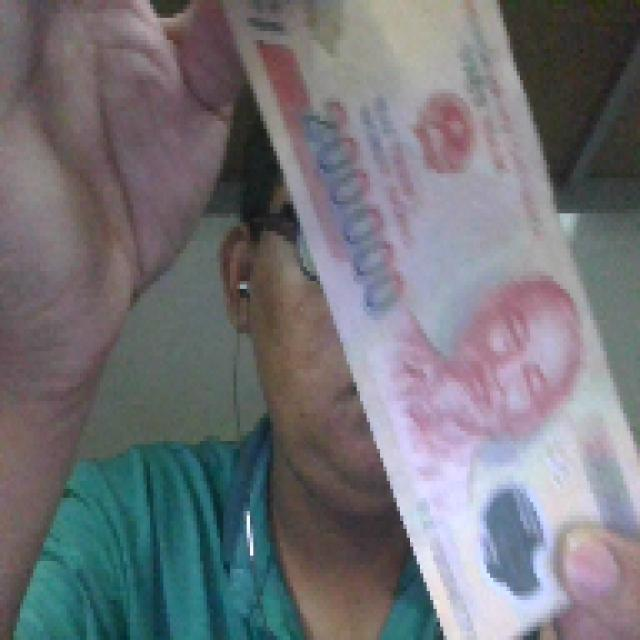200 000 VND: (203, 0, 637, 636)
